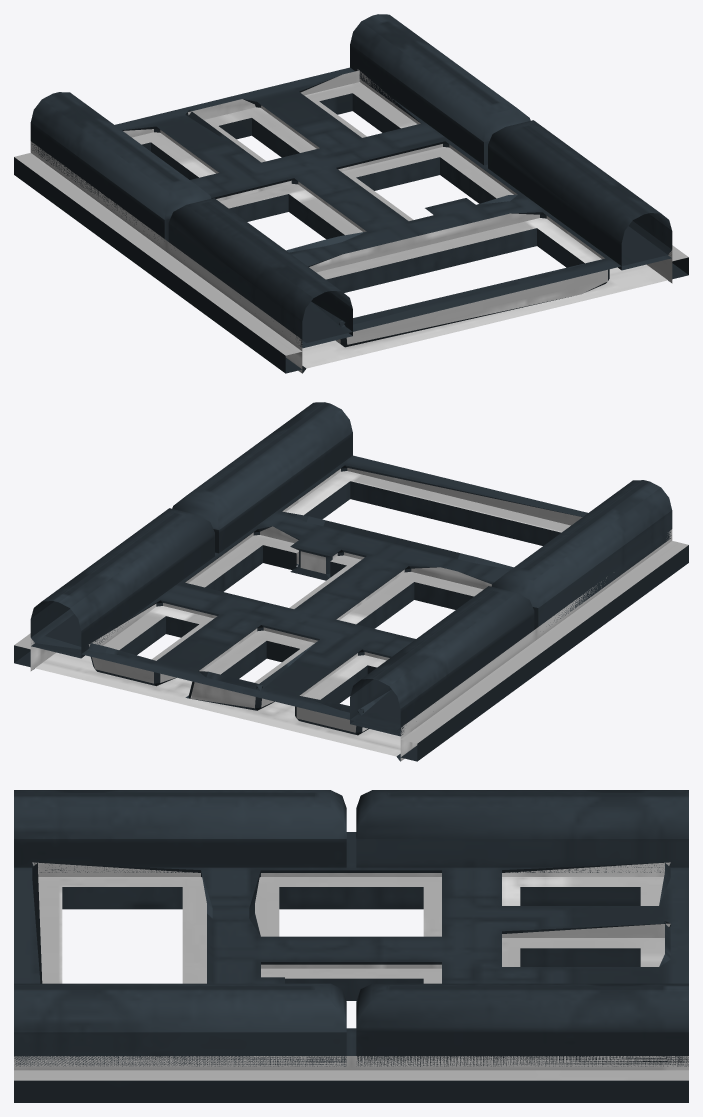
The model's file is delbld-girder-586.glb.
3 views of the same model, one above another, from view 1: azimuth 30°, elevation 25°; view 2: azimuth 150°, elevation 25°; view 3: azimuth 270°, elevation 25° (orthographic). The views are drawn at different scales.
Visible parts, largest first — view 1: delbld-girder-586; view 2: delbld-girder-586; view 3: delbld-girder-586.
Part boxes in pixels (x1=…): delbld-girder-586: x1=14, y1=14, x2=688, y2=373; delbld-girder-586: x1=14, y1=402, x2=688, y2=761; delbld-girder-586: x1=14, y1=790, x2=688, y2=1102.
Size of the model in its own units: 2 by 0.3602 by 2.33.
3 materials, 3 textured.
